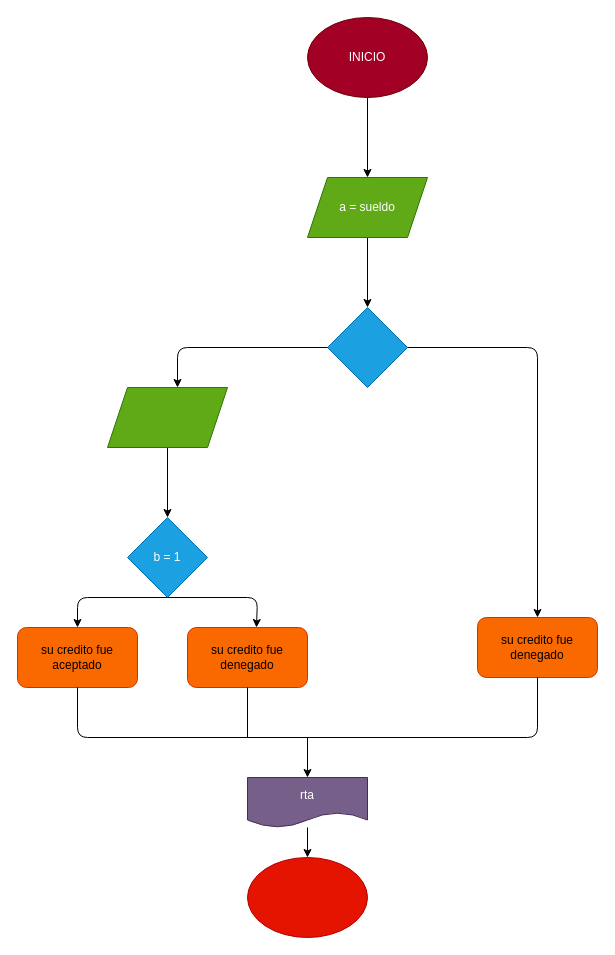
Image size: 615x955. Some labels were removed from this diagram. The shapes that lost their labels are listed below. From the top down, each one's centre as x and y in pixels, then its label:
point 367,347: a < 945200
point 167,417: b = deuda
point 307,897: FIN
